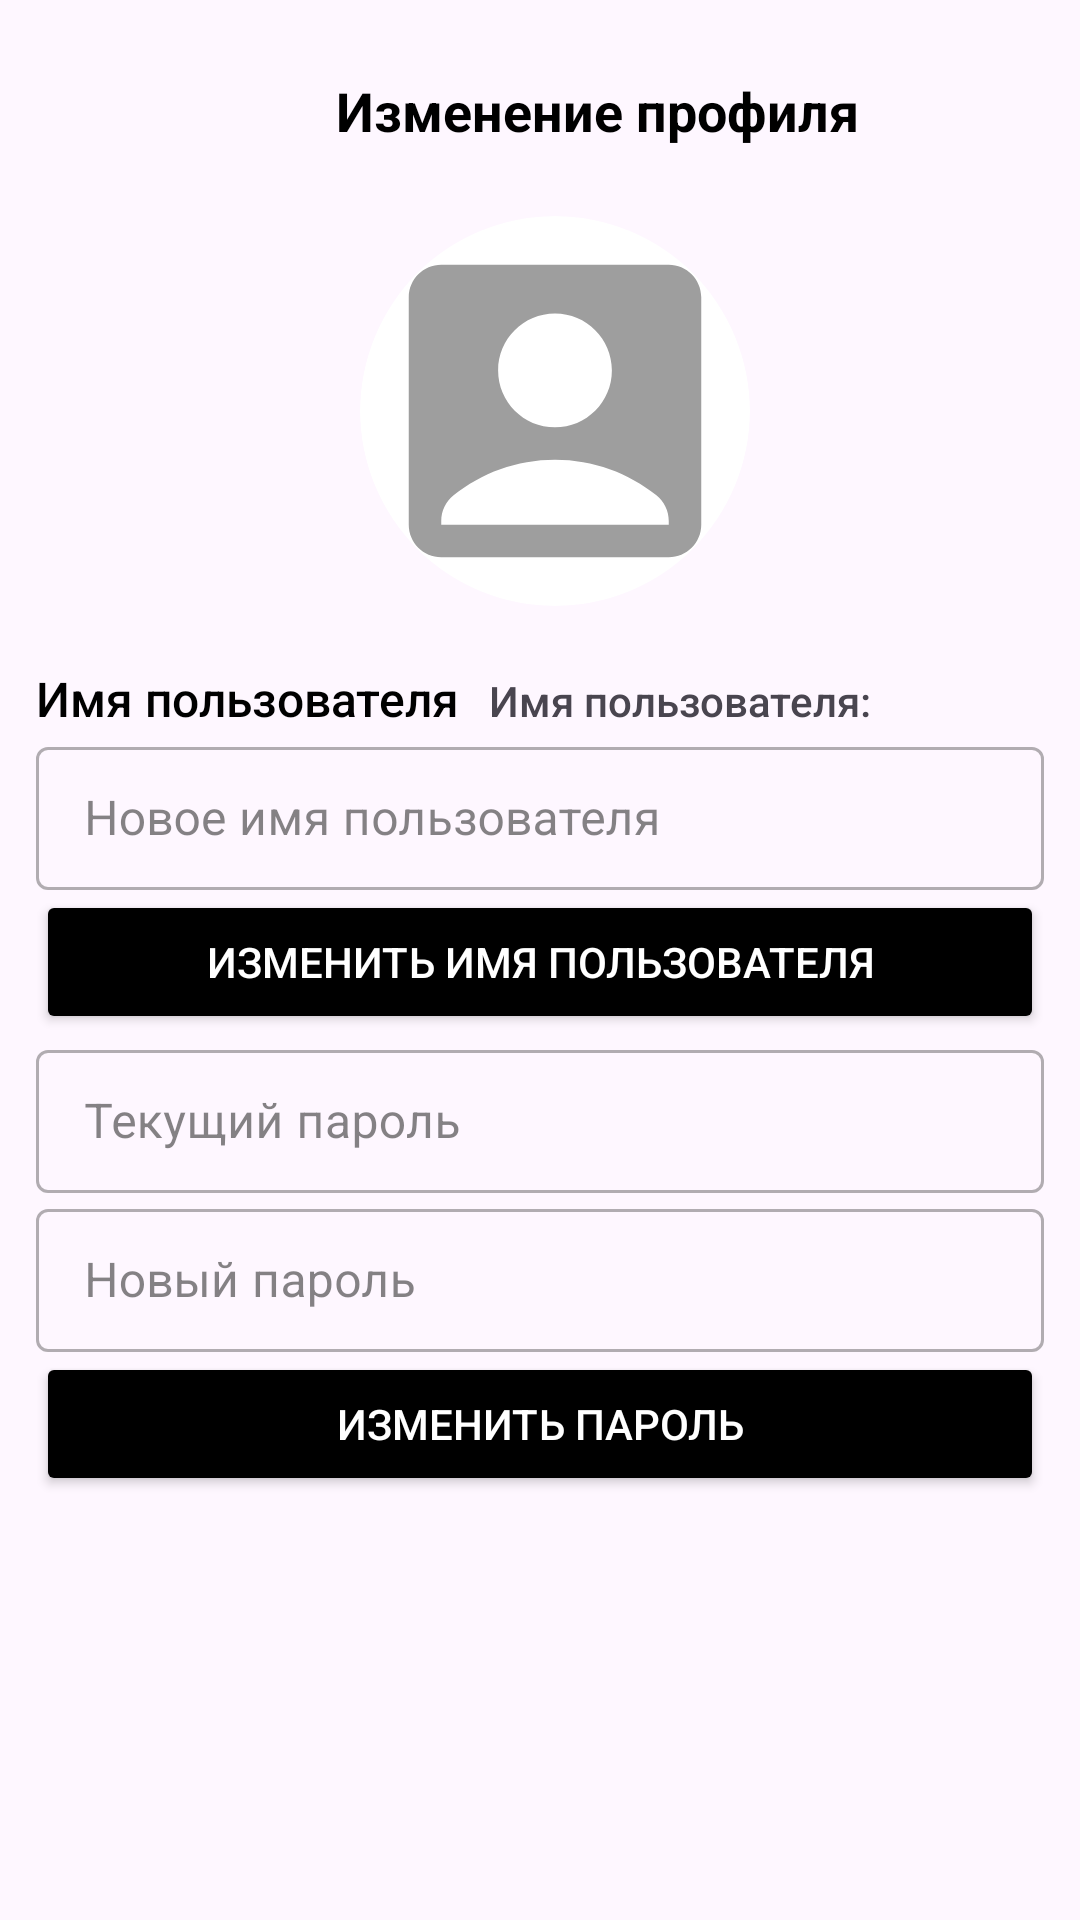

Screen size 1080x1920. Icon name, then its center in pixels as point (x, y):
Изображение профиля: point (555, 411)
